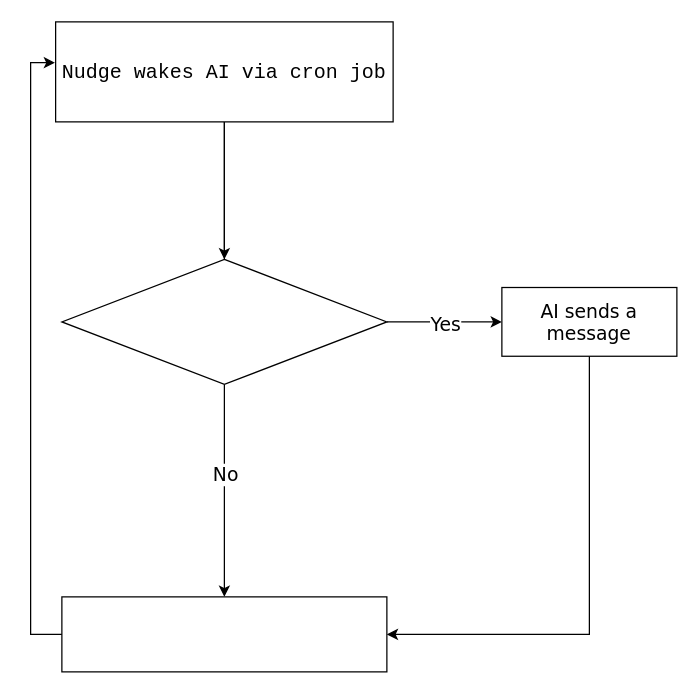
This 699x694 diagram has some shape labels left out. The shapes that lost their labels are listed below. From the top down, each one's centre as x and y in pixels, then its label:
point 224,321: Ask AI： "Send the user a message now?"
point 224,634: Set next wake time
